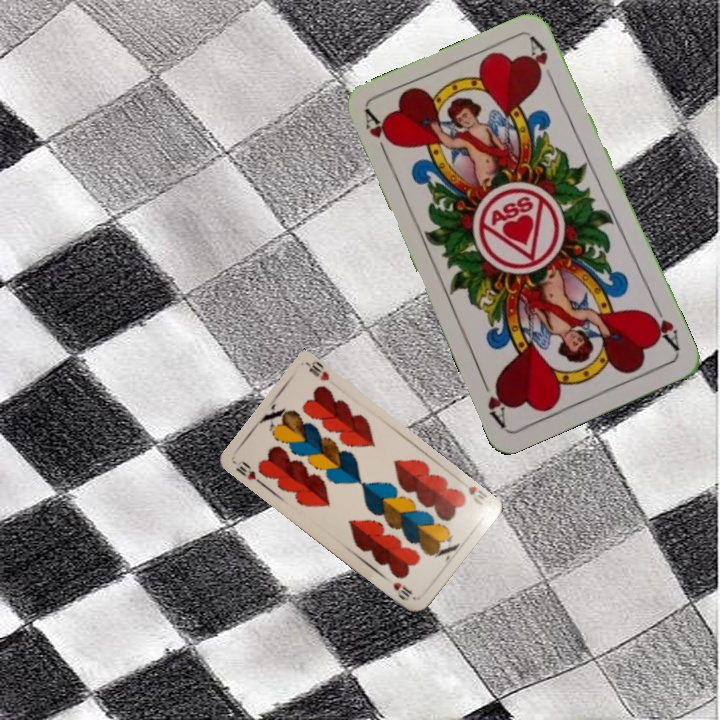H10: (232, 457, 266, 488), (464, 482, 490, 508)
HA: (360, 107, 399, 164), (643, 299, 683, 354)
